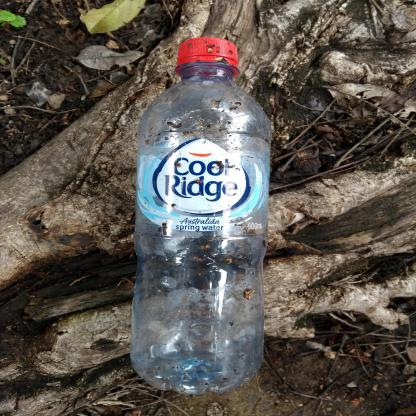Clear plastic bottle: (130, 37, 272, 395)
Plastic bottle cap: (177, 37, 238, 63)
